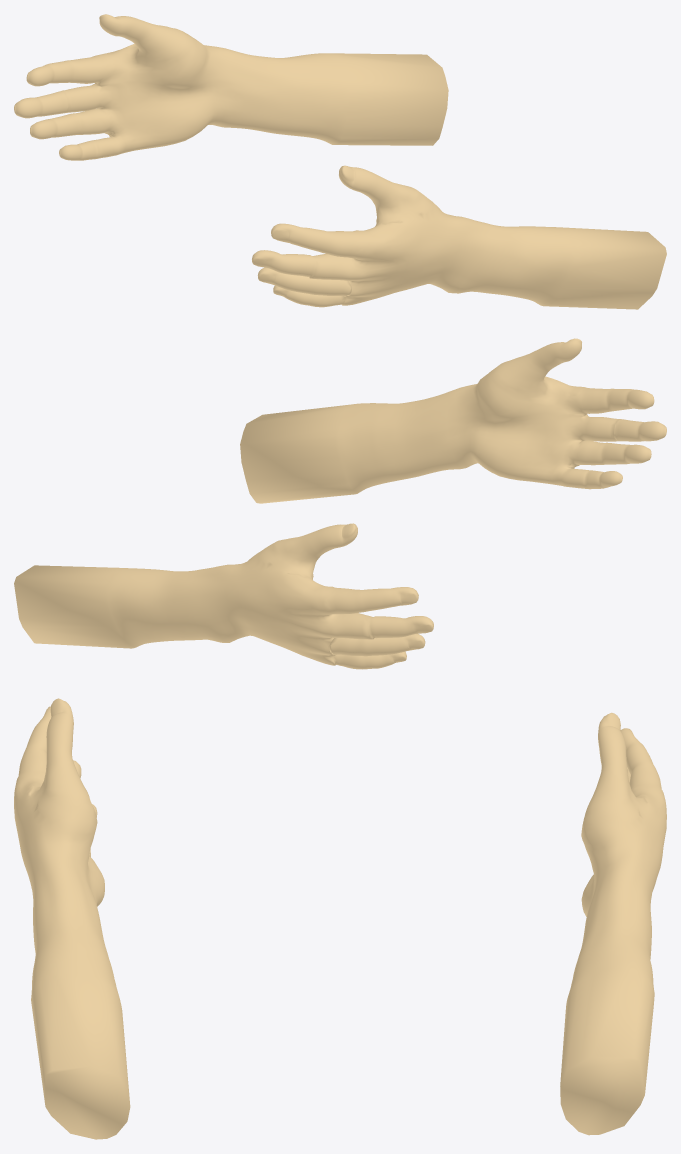
The model's file is pickUp.glb.
3 views of the same model, one above another, from view 1: azimuth 30°, elevation 25°; view 2: azimuth 150°, elevation 25°; view 3: azimuth 270°, elevation 25° (orthographic). The views are drawn at different scales.
Parts seen in each view (by area): view 1: Hand.R, Hand.R.001; view 2: Hand.R.001, Hand.R; view 3: Hand.R.001, Hand.R.
Boxes of the visible parts, box(x1,y1,x2,y2) form: Hand.R: box(14, 14, 448, 160); Hand.R.001: box(252, 165, 666, 309); Hand.R.001: box(240, 338, 666, 503); Hand.R: box(14, 523, 433, 669); Hand.R.001: box(14, 698, 130, 1139); Hand.R: box(560, 712, 666, 1135).
Bounding box in the file's own units: 1.44 × 0.7416 × 1.64.
